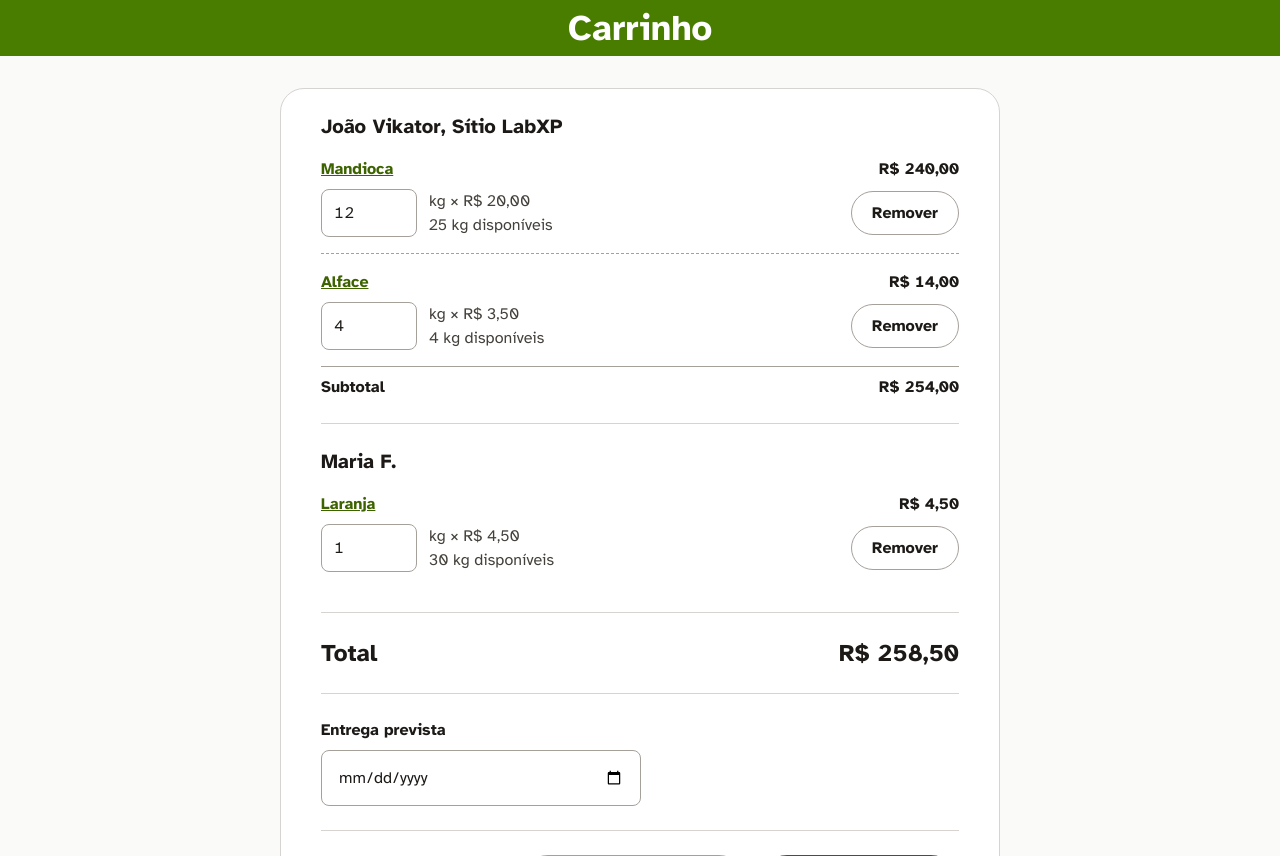
Test case: Cart › updates the totals and the saved cart as the quantities change
This screenshot has width=1280, height=856.
Clear the number field named "Quantidade de Mandioca em kg" at (369, 213), box [321, 189, 417, 237]
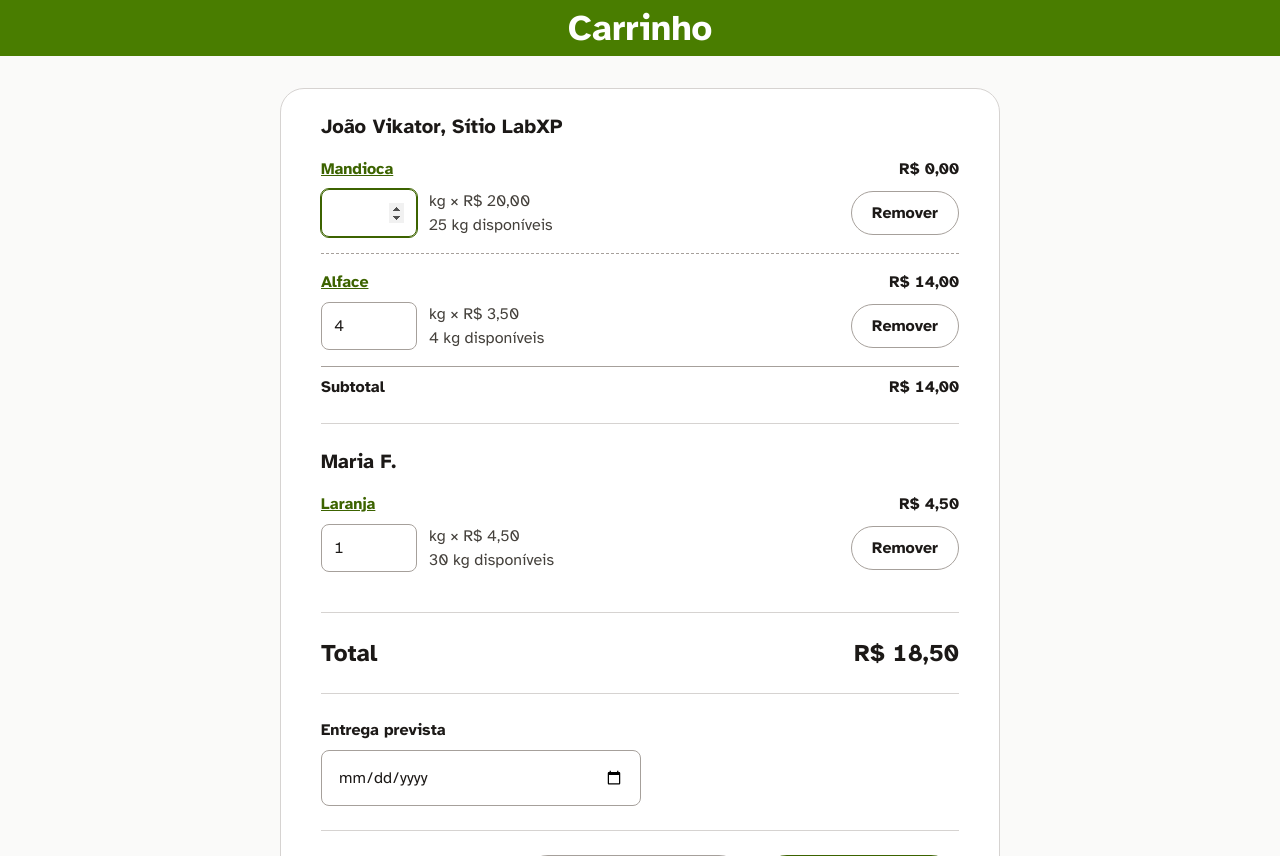
Type "10" into the number field named "Quantidade de Mandioca em kg" at (369, 213), box [321, 189, 417, 237]
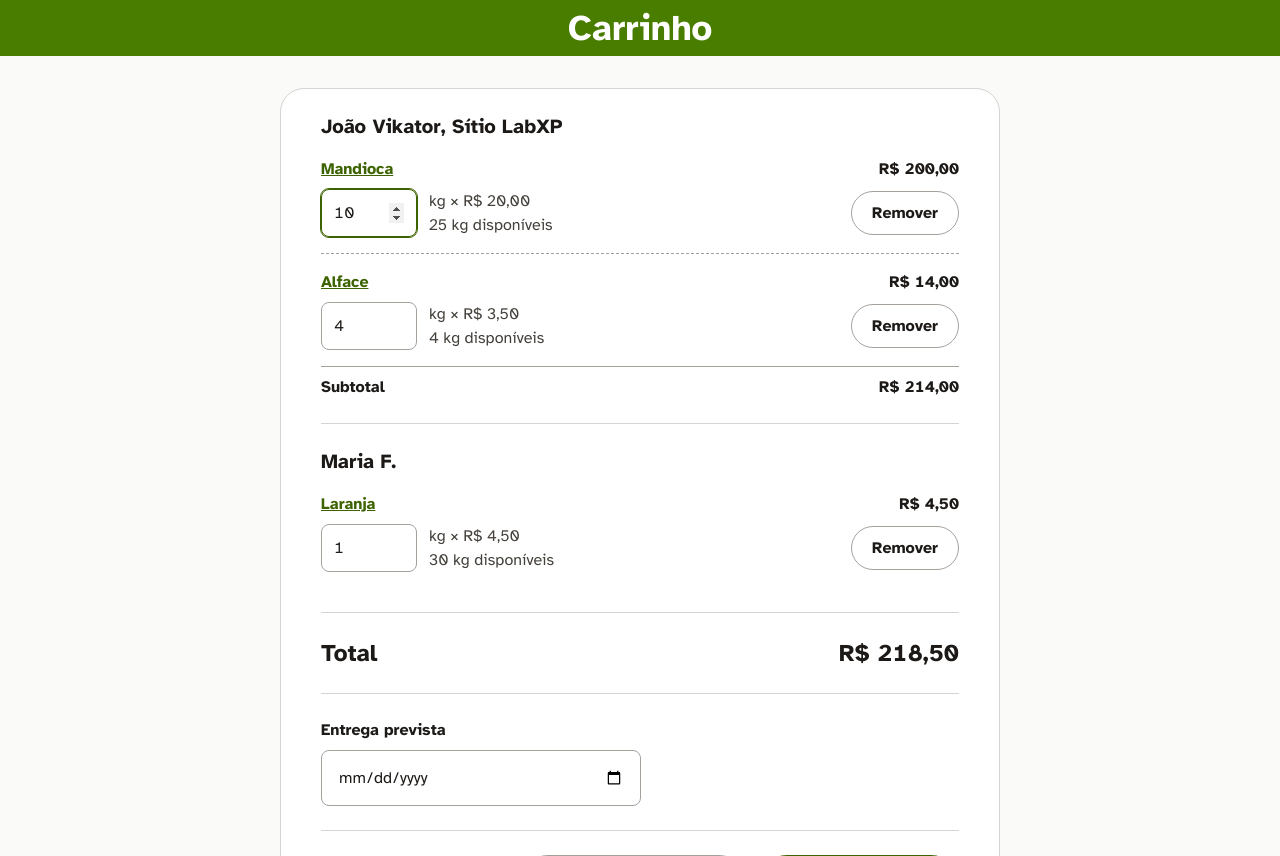
Result: the text "Total R$ 218,50" is shown at [321, 613, 959, 694]
